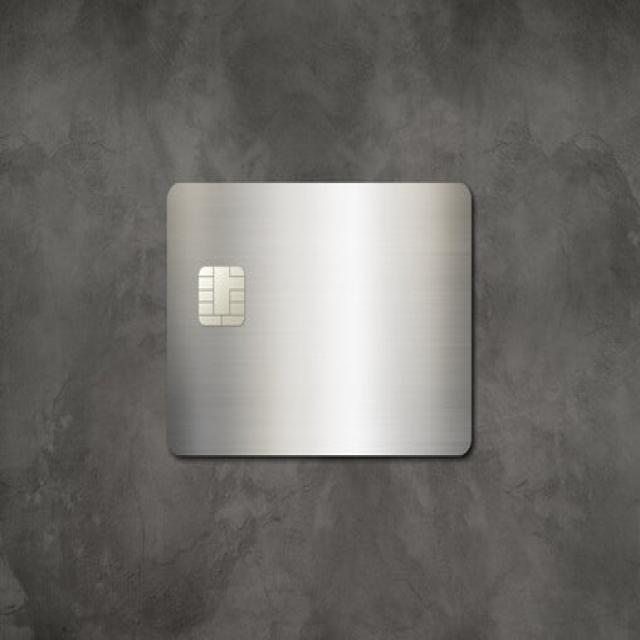payment_card: (164, 180, 474, 458)
